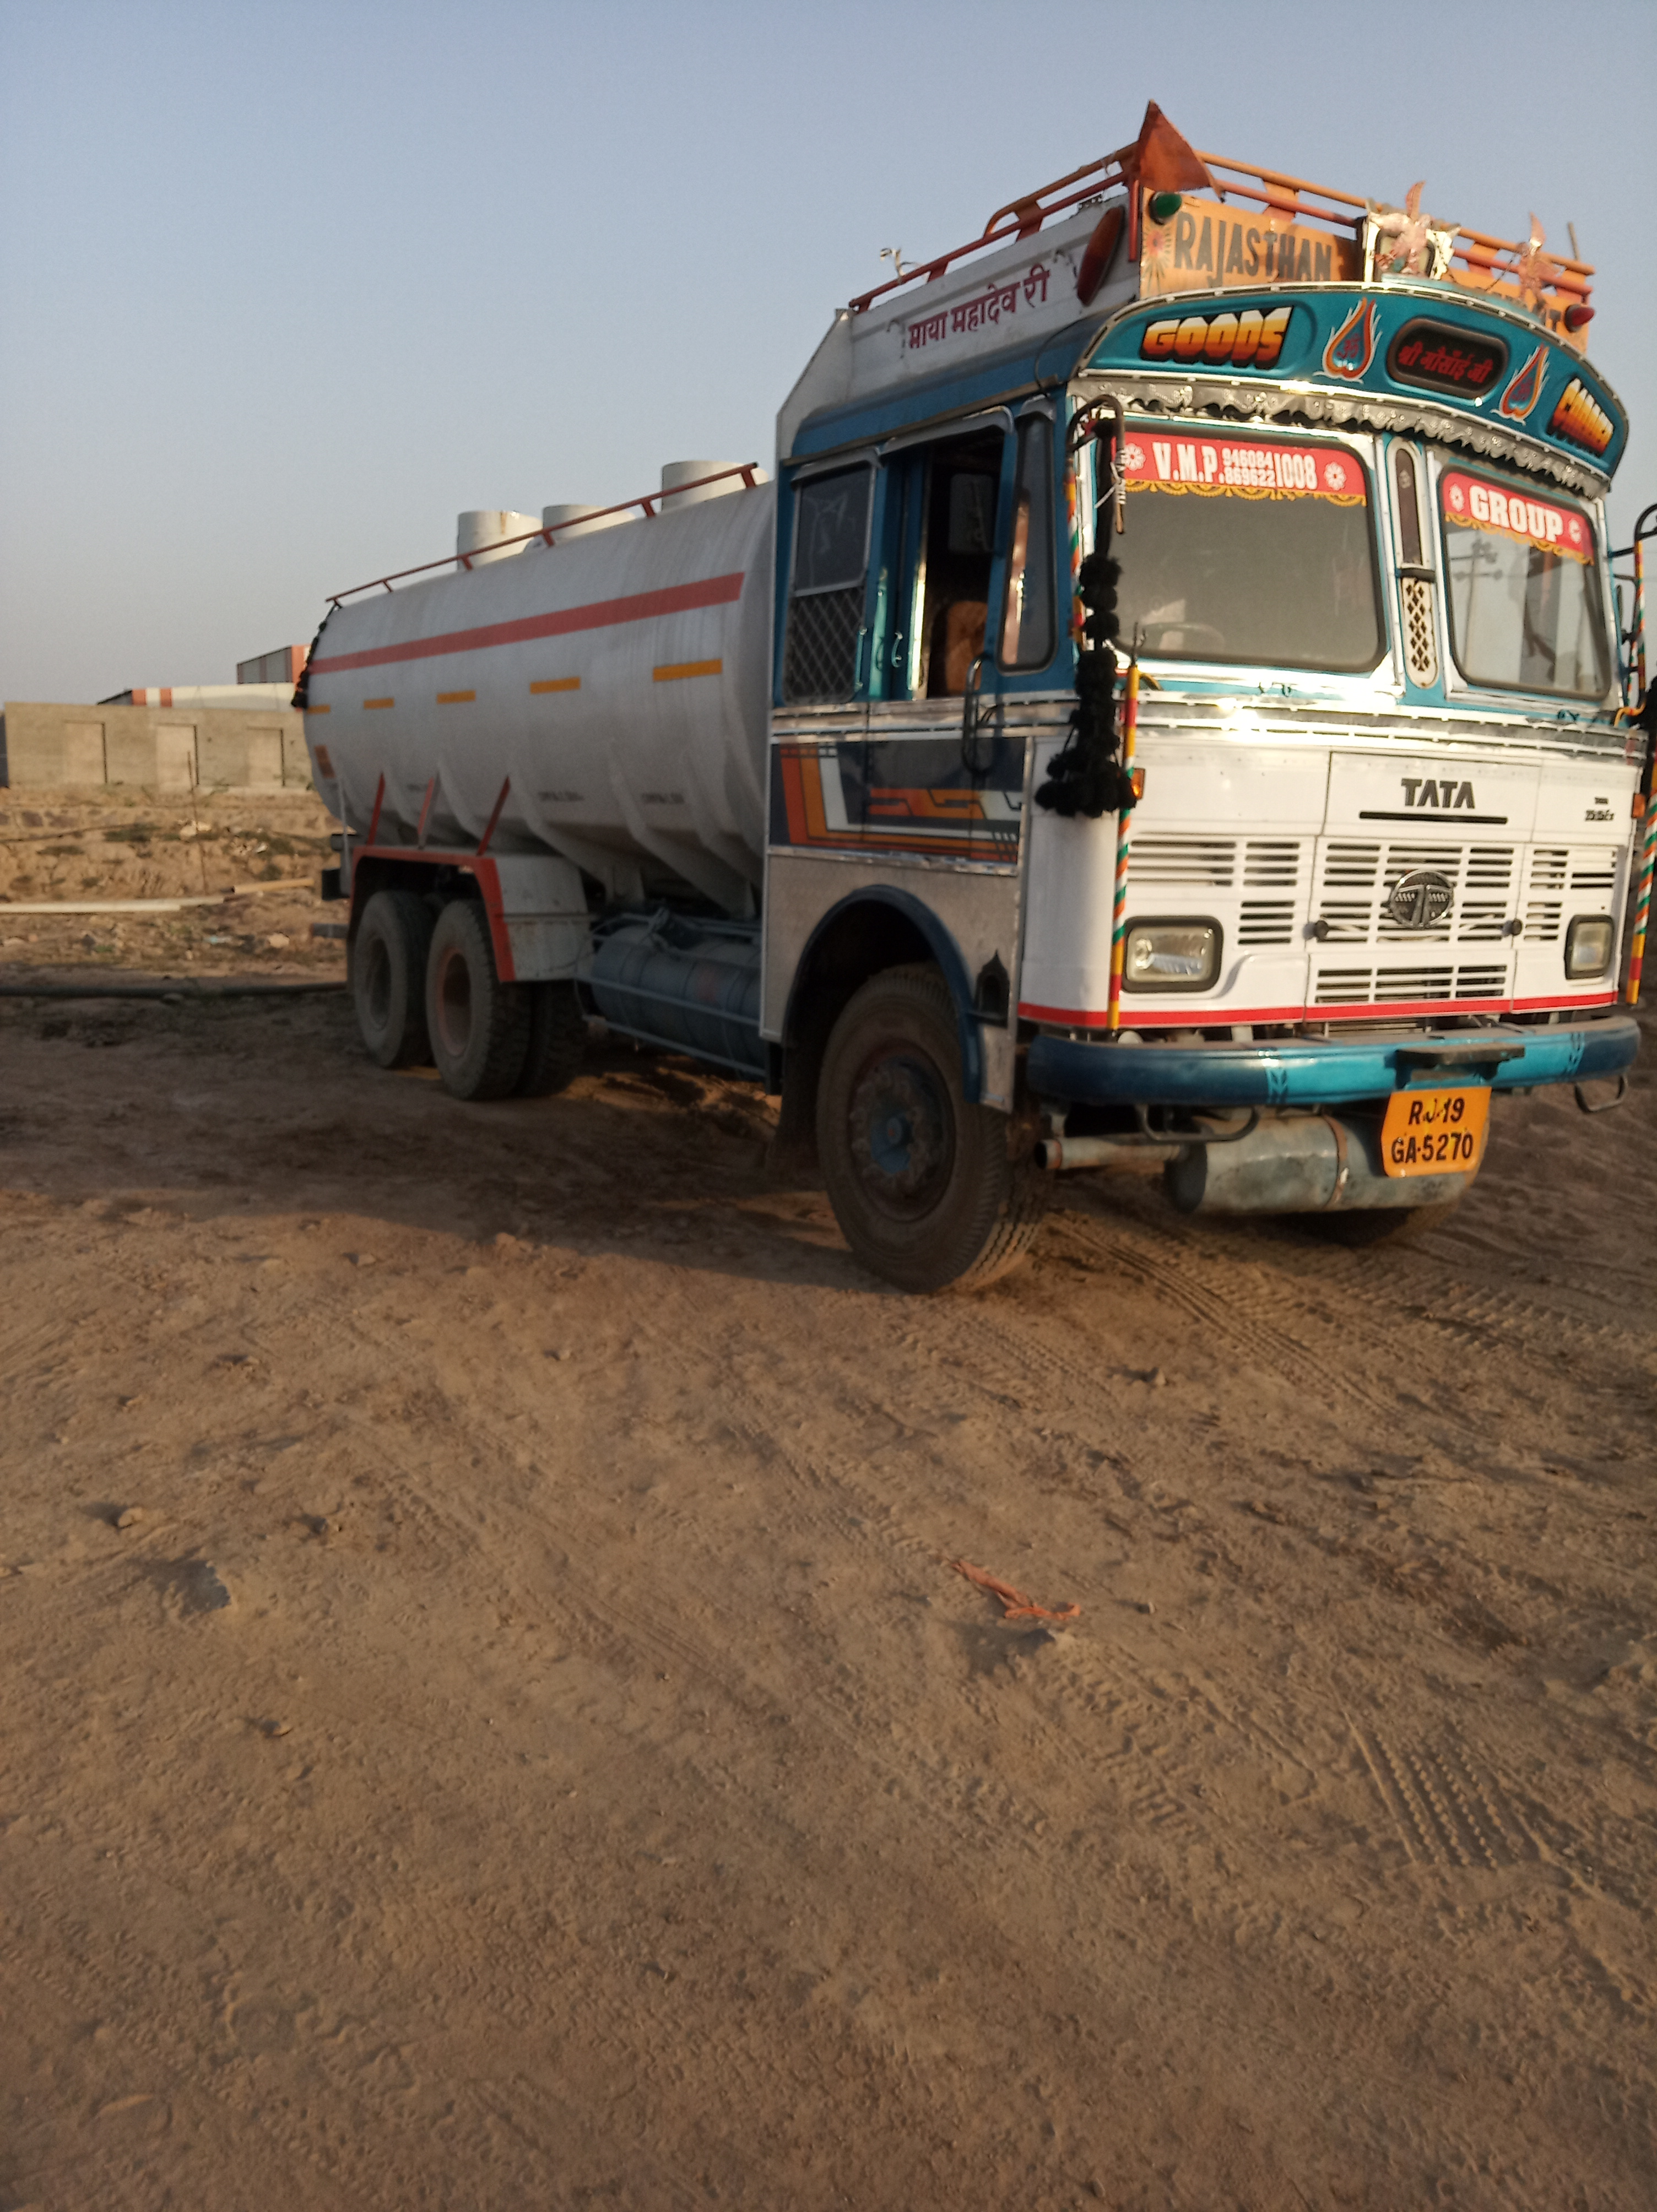truck: (285, 92, 1657, 1305)
